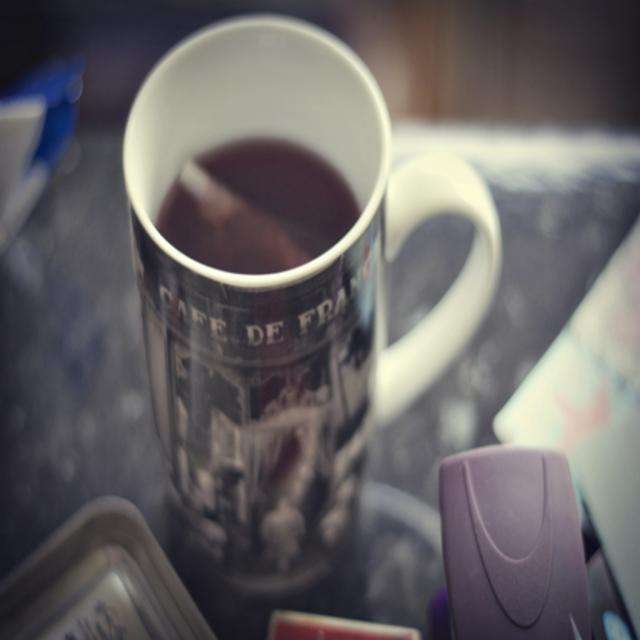Coffee: (158, 138, 363, 280)
Tea: (153, 142, 352, 271)
